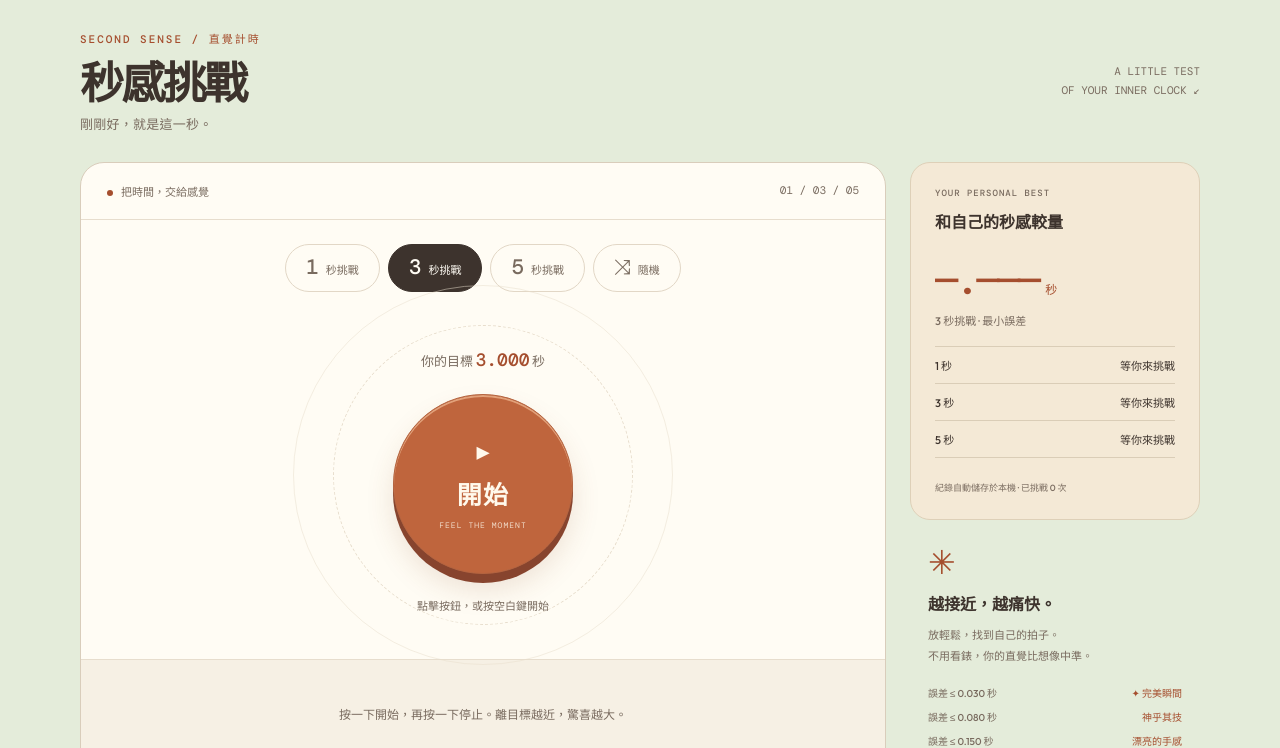
Test: Second Sense rounds › announces random targets before each round, locks them during play, and preserves the finished target
What coordinates should you click on to do the following:
click the button with aria-label "隨機秒數目標"
I would click on:
 (637, 268)
Its box is [593,244,681,292].
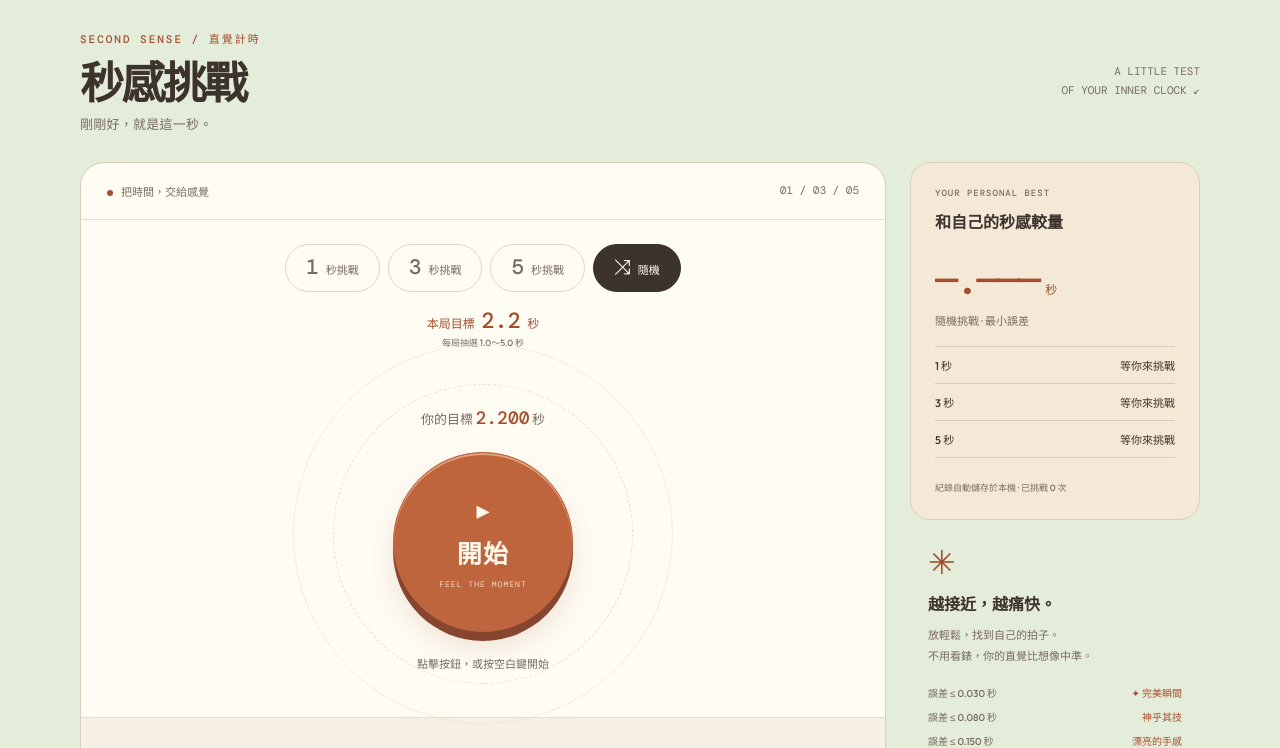
Check: the element with class "sense-random-target" shows "本局目標 2.2 秒", box [427,306,539,348]
What coordinates should you click on to do the following:
click the button with aria-label "開始計時"
I would click on:
 (483, 542)
Its box is [393,452,573,632].
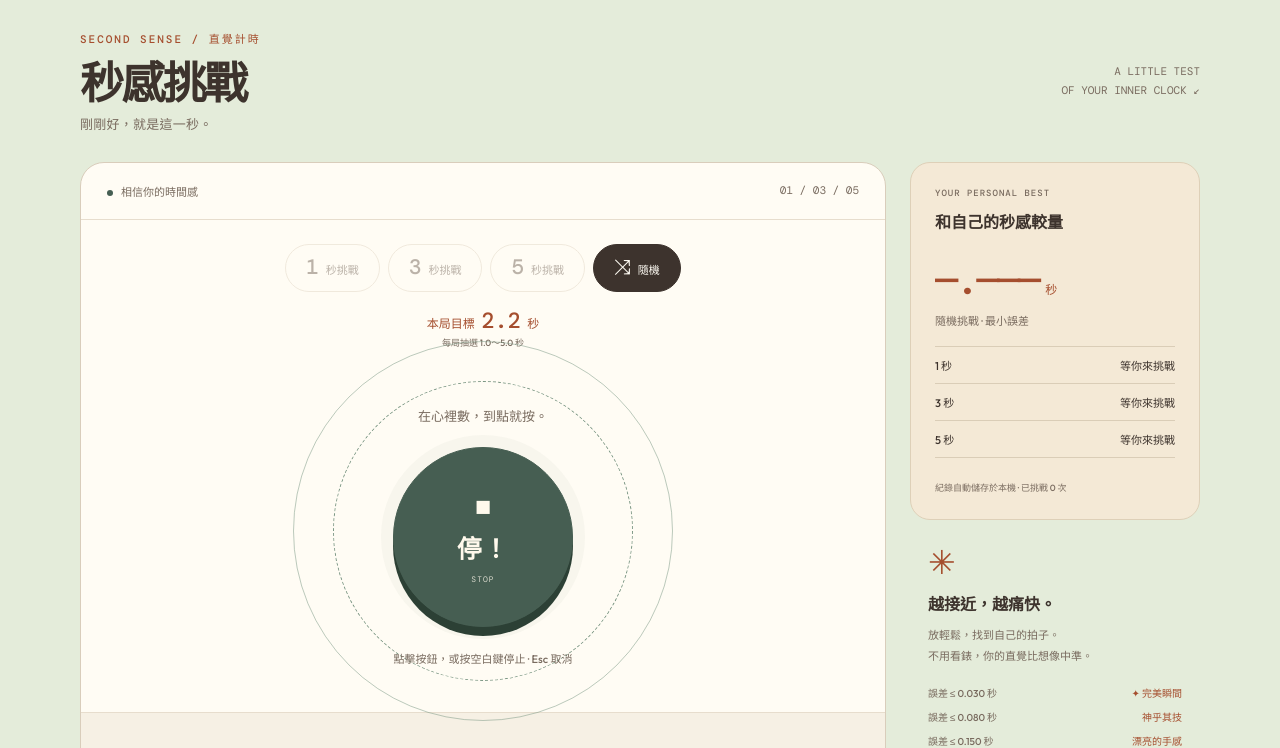
Check: the button with aria-label "隨機秒數目標" is disabled, box [593,244,681,292]
What coordinates should you click on to do the following:
click the button with aria-label "停止計時"
I would click on:
 (483, 537)
Its box is [393,447,573,627].
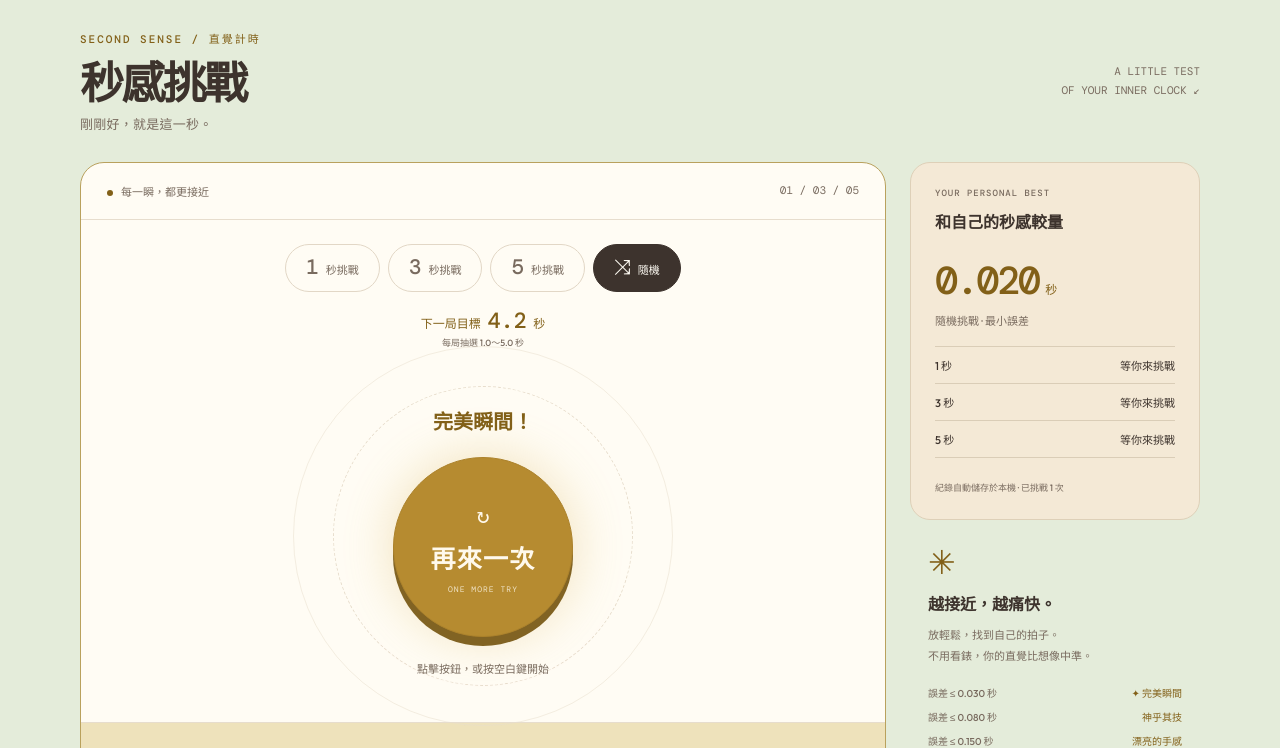
Check: the element with class "sense-random-target" shows "下一局目標 4.2 秒", box [421,306,545,348]
What coordinates should you click on to do the following:
click the button with aria-label "再挑戰一次"
I would click on:
 (483, 547)
Its box is [393,457,573,637].
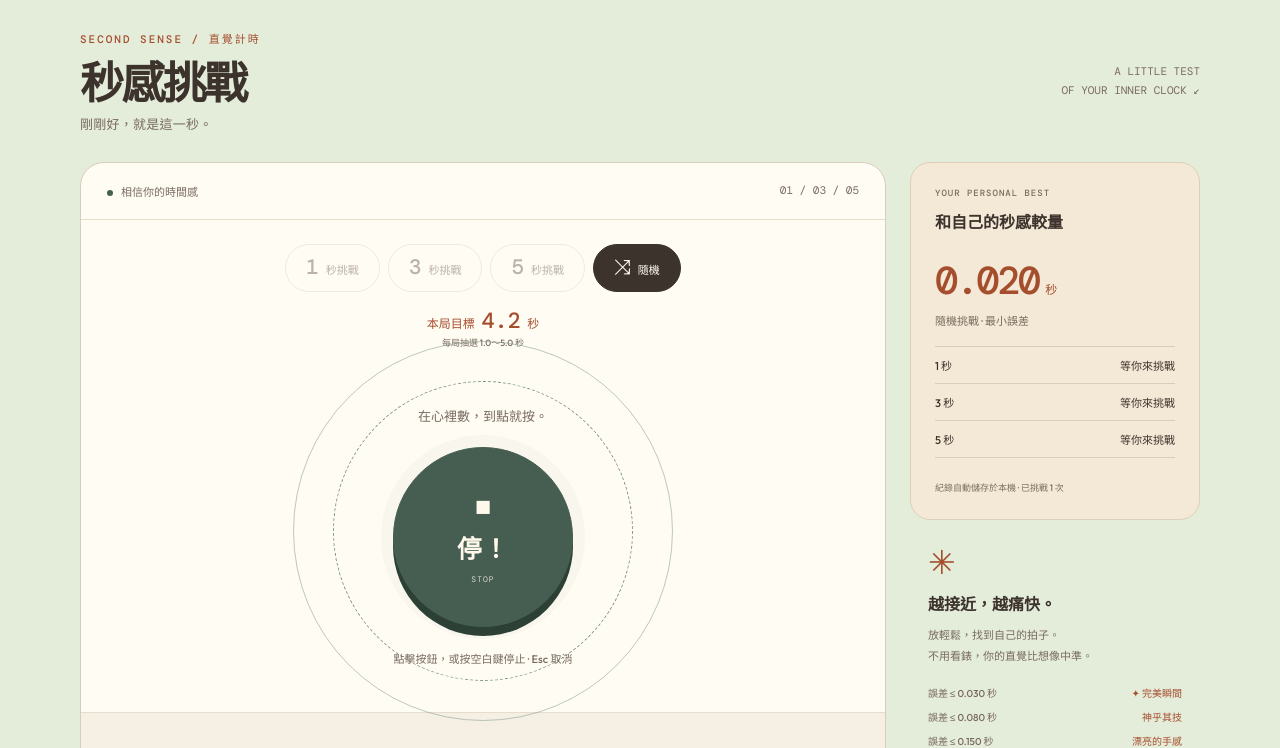
What coordinates should you click on to do the following:
click the button with aria-label "停止計時"
I would click on:
 (483, 537)
Its box is [393,447,573,627].
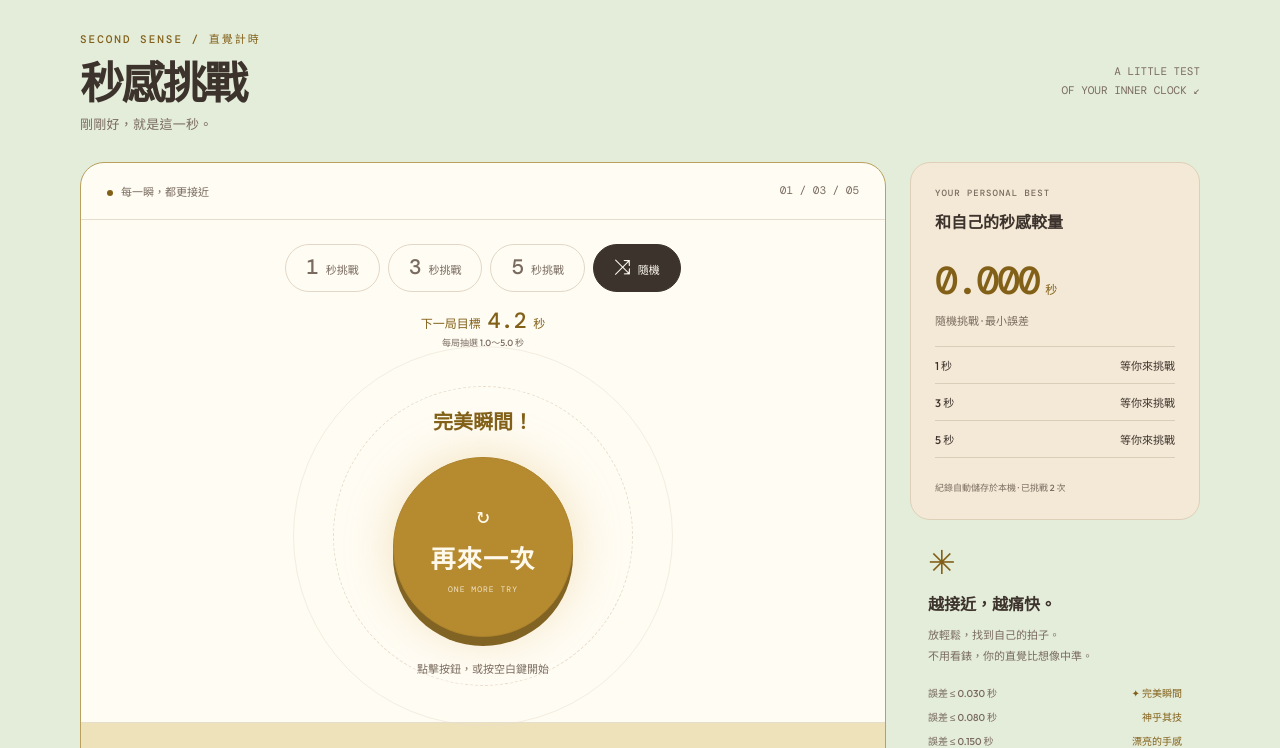
What coordinates should you click on to do the following:
click the button "1 秒挑戰"
I would click on:
 (332, 268)
Its box is [285,244,380,292].
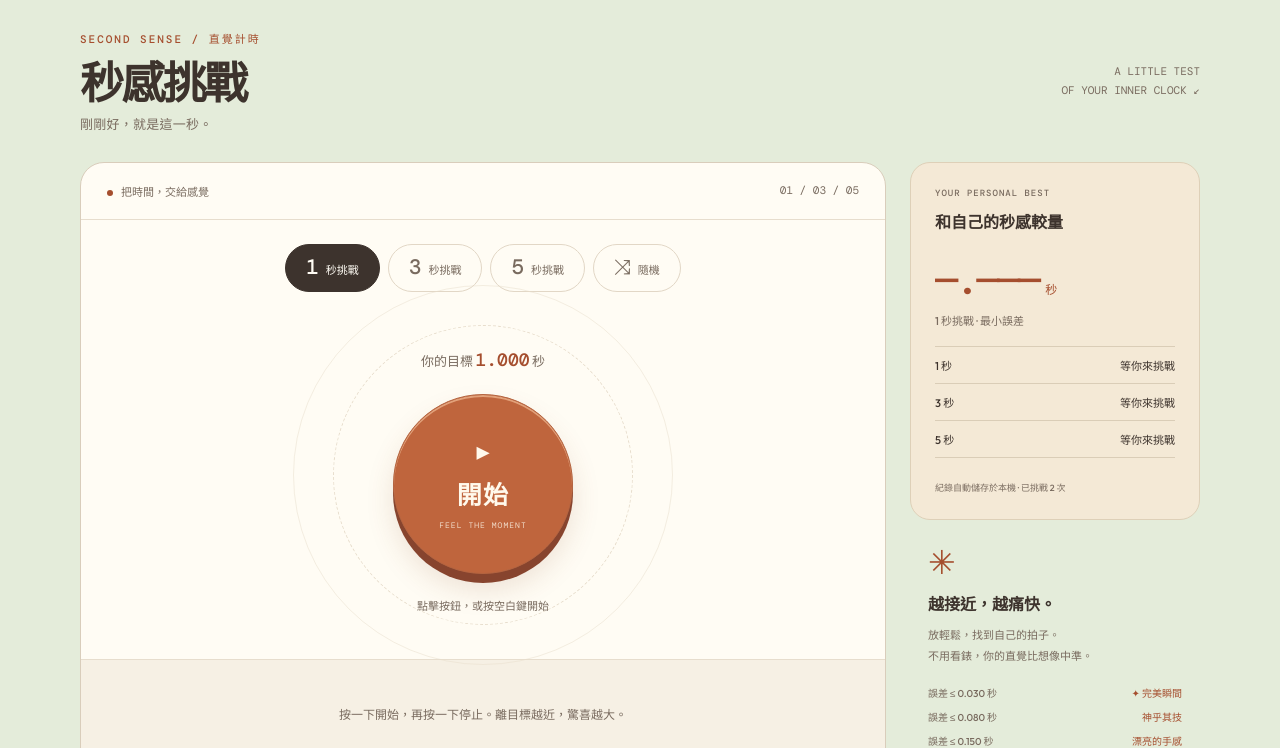
Check: the element with class "sense-random-target" is gone
